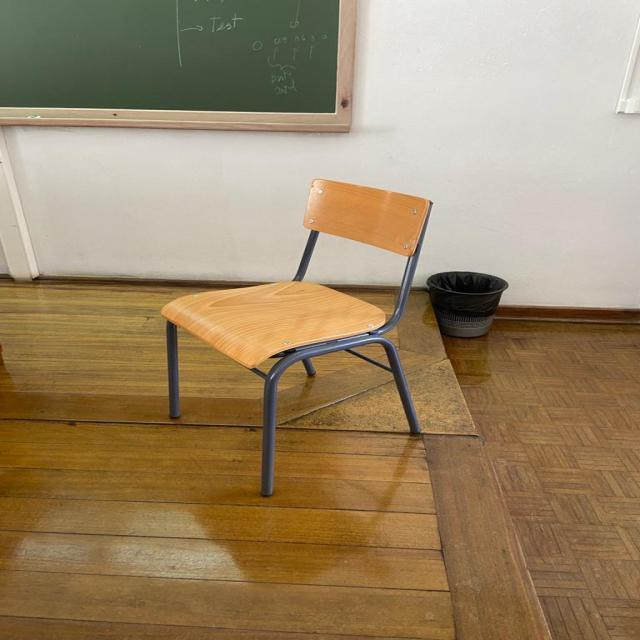chair: (147, 170, 442, 488)
